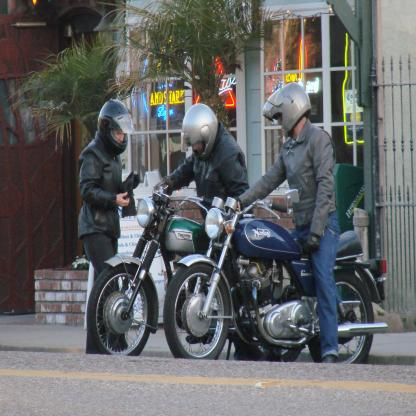Helmet: (266, 84, 315, 138), (179, 103, 218, 163), (97, 100, 133, 157)
